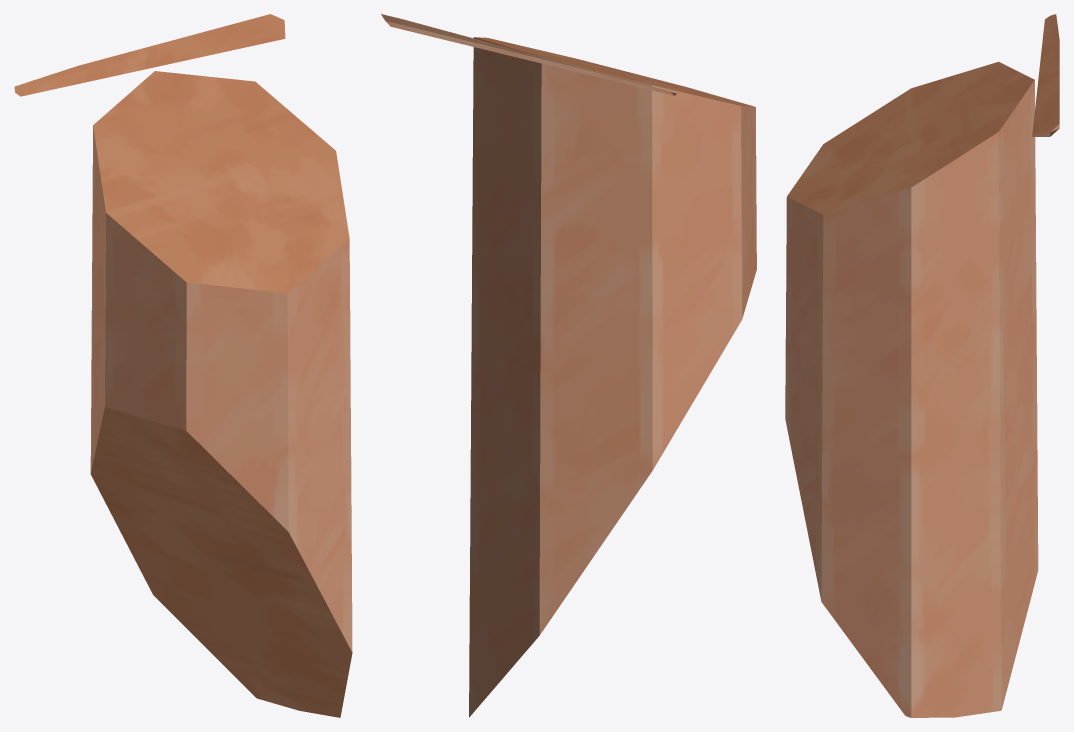
Rendered from pillar_s04.fbx.
The picture shows the model from 3 angles, left to right: view 1: azimuth 30°, elevation 25°; view 2: azimuth 150°, elevation 25°; view 3: azimuth 270°, elevation 25°; orthographic projection. The views are drawn at different scales.
Parts seen in each view (by area): view 1: pillar_s04; view 2: pillar_s04; view 3: pillar_s04.
Boxes of the visible parts, <box> form: pillar_s04: <box>14,14,352,717</box>; pillar_s04: <box>381,14,756,717</box>; pillar_s04: <box>785,14,1059,717</box>.
Size of the model in its own units: 1.86 by 4.29 by 1.76.
